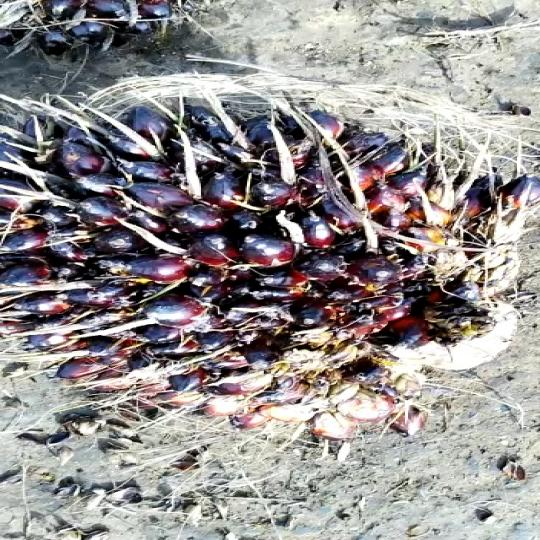mentah: (7, 46, 540, 443)
